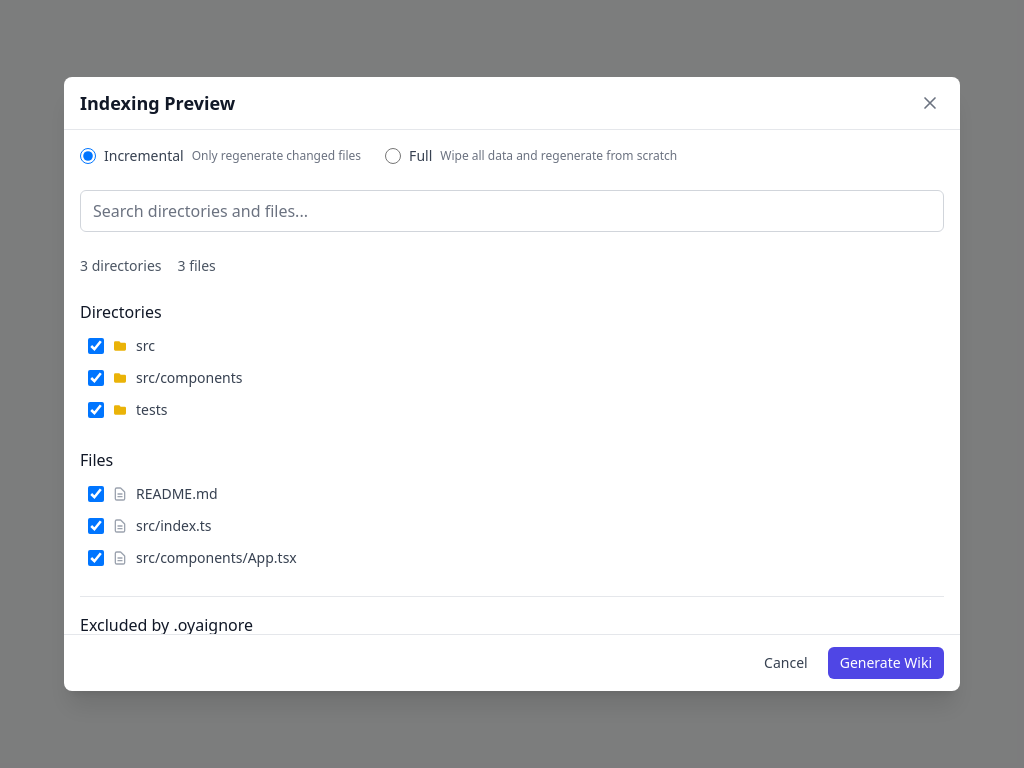
it: IndexingPreviewModal › directory exclusion (inverted checkbox) › hides files within excluded directory
Expected: the text "src/index.ts" is shown, left=136, top=516, right=212, bottom=536
Expected: the text "src/components/App.tsx" is shown, left=136, top=548, right=297, bottom=568
# Find and click the checkbox for 'src' directory to uncheck (exclude)
Click the 1st checkbox: (96, 346) left=88, top=338, right=104, bottom=354
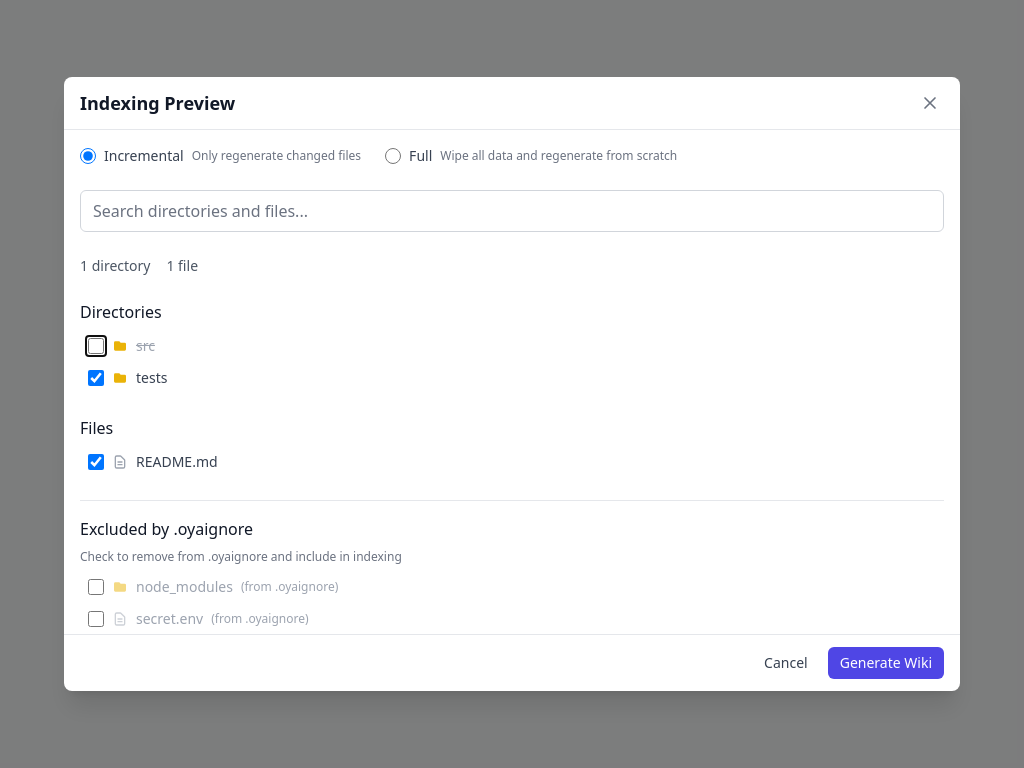
Expected: the text "README.md" is shown, left=136, top=452, right=218, bottom=472
Expected: the text "src/index.ts" is gone
Expected: the text "src/components/App.tsx" is gone
